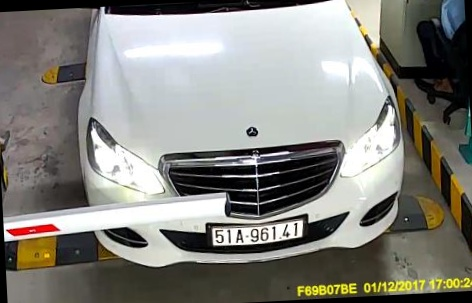plate: (197, 213, 311, 254)
